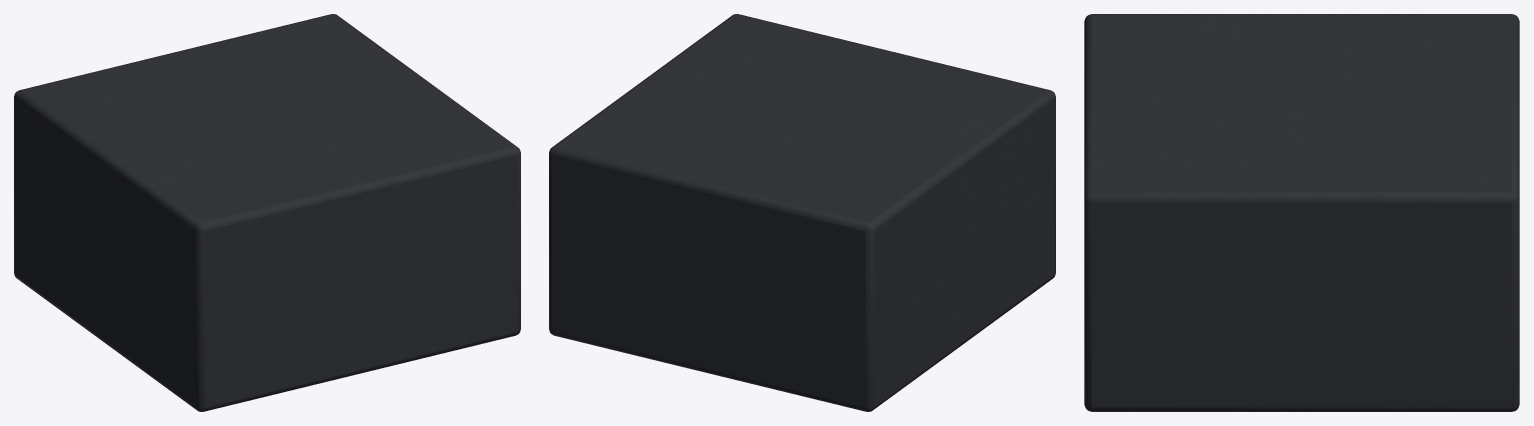
Rendered from left_hand_servo_black.obj.
3 renders of one model, left to right at view 1: azimuth 30°, elevation 25°; view 2: azimuth 150°, elevation 25°; view 3: azimuth 270°, elevation 25°, orthographic. The views are drawn at different scales.
Parts seen in each view (by area): view 1: left_hand__gripper_servo; view 2: left_hand__gripper_servo; view 3: left_hand__gripper_servo.
Boxes of the visible parts, left/top/right/bottom form: left_hand__gripper_servo: left=14, top=14, right=520, bottom=411; left_hand__gripper_servo: left=549, top=14, right=1055, bottom=411; left_hand__gripper_servo: left=1084, top=14, right=1519, bottom=411.
Size of the model in its own units: 0.036 by 0.02 by 0.036.
Materials: 1 (1 with a texture image).
